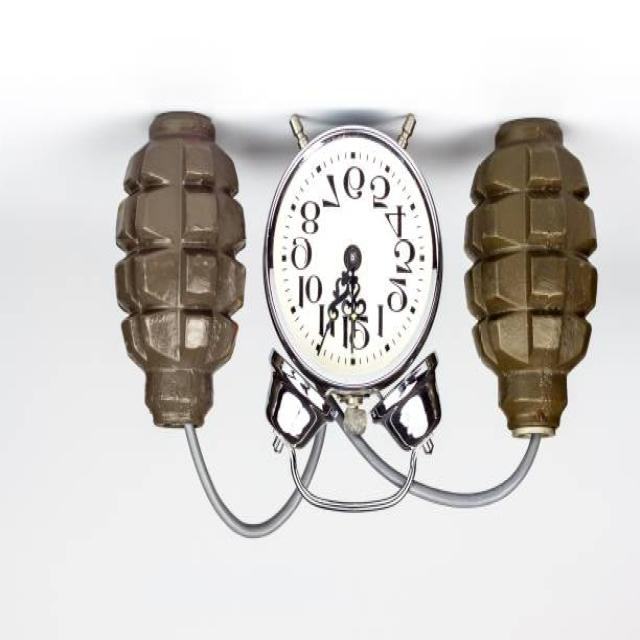grenade: (458, 110, 603, 450), (107, 108, 251, 435)
